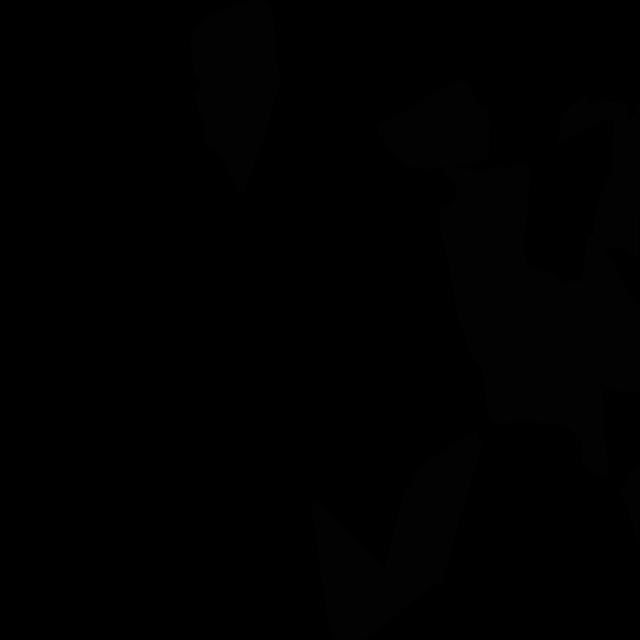cardboard: (439, 162, 608, 477), (310, 431, 482, 640), (503, 234, 640, 393), (190, 0, 280, 194), (558, 96, 640, 257), (377, 80, 490, 170), (619, 463, 640, 547)
